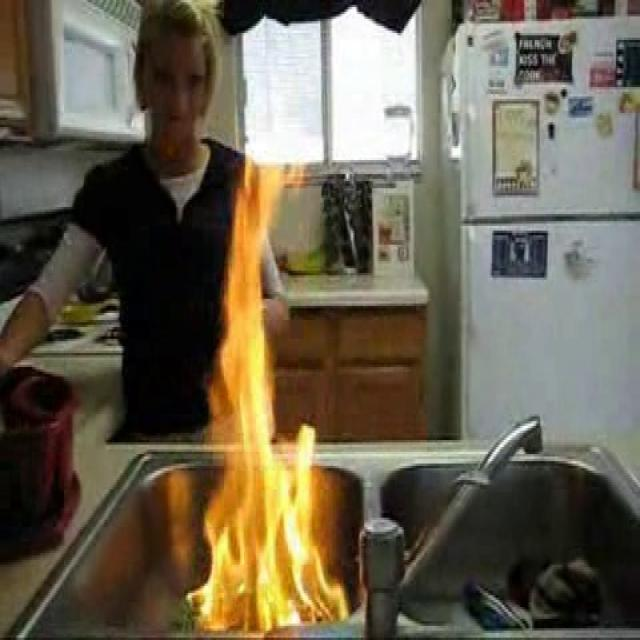fire: (208, 148, 324, 632)
